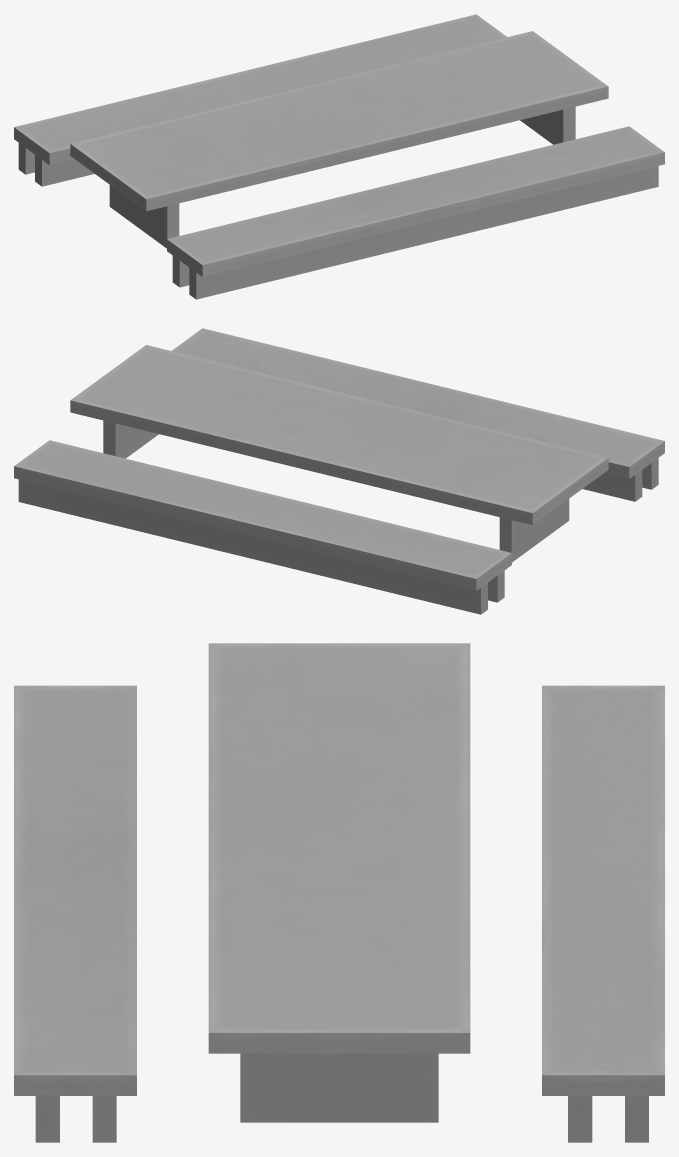
The model's file is Pfb_Canteen__2.fbx.
3 views of the same model, one above another, from view 1: azimuth 30°, elevation 25°; view 2: azimuth 150°, elevation 25°; view 3: azimuth 270°, elevation 25° (orthographic). The views are drawn at different scales.
Visible parts, largest first — view 1: Mat_Canteen_02-JLAB; view 2: Mat_Canteen_02-JLAB; view 3: Mat_Canteen_02-JLAB.
Boxes of the visible parts, bbox=[...] form: Mat_Canteen_02-JLAB: bbox=[14, 14, 664, 299]; Mat_Canteen_02-JLAB: bbox=[14, 328, 664, 614]; Mat_Canteen_02-JLAB: bbox=[14, 643, 664, 1142].
Size of the model in its own units: 3.49 by 0.4592 by 2.47.
Materials: 1 (1 with a texture image).
